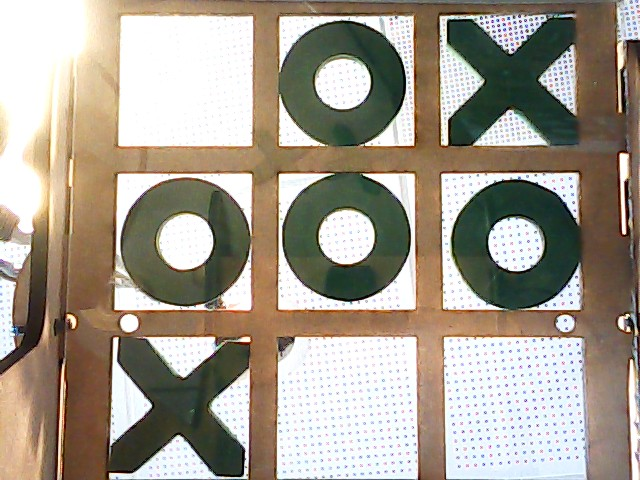O: (443, 174, 584, 308), (113, 177, 251, 308), (282, 177, 416, 305), (279, 20, 414, 143)
X: (110, 340, 247, 475), (444, 15, 580, 146)
